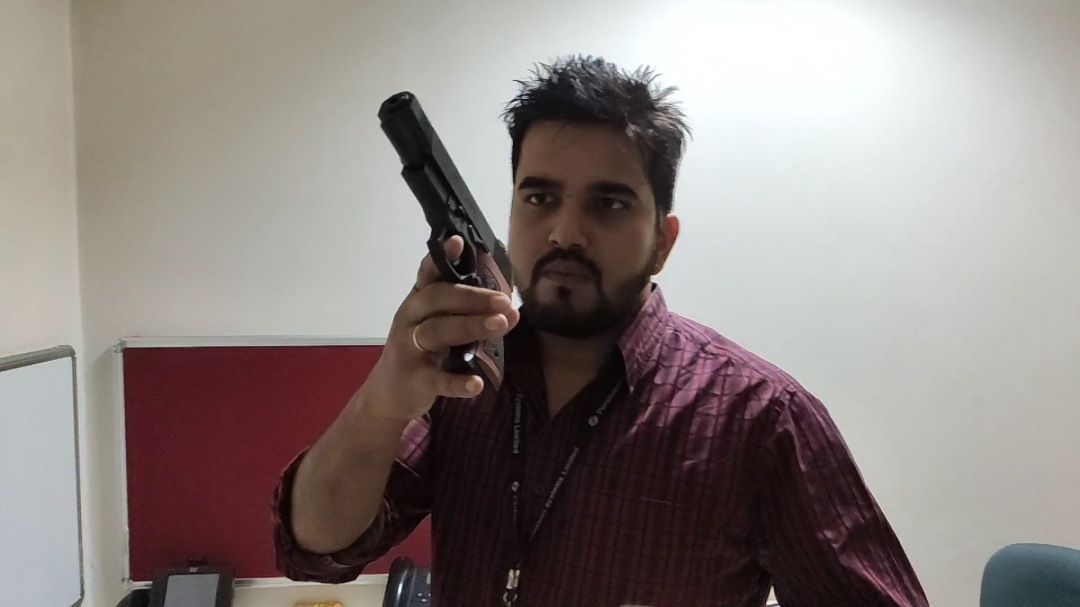gun: (349, 90, 526, 402)
